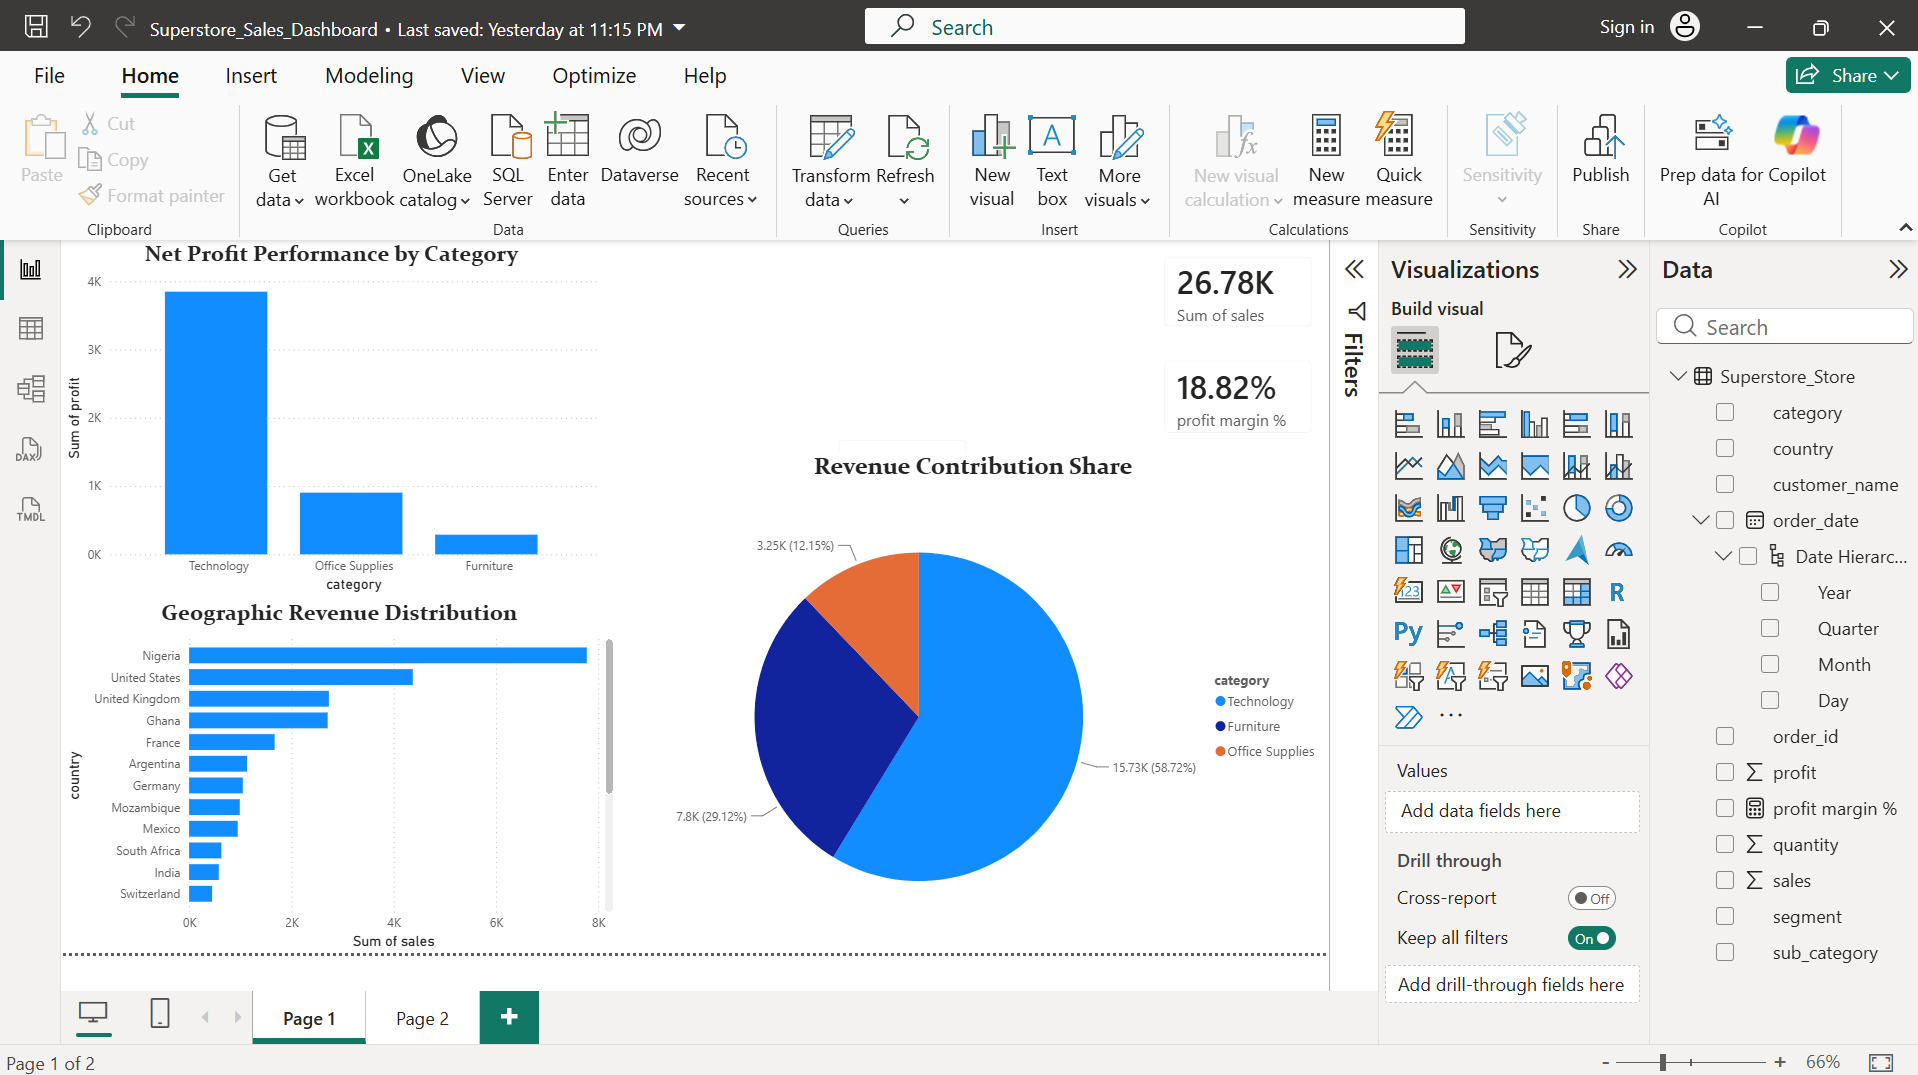

This screenshot's page, from the dashboard's own definition file:
{"tool":"powerbi","page":{"name":"Page 1","canvas":[1280,720],"ordinal":0},"visuals":[{"type":"cardVisual","fields":{"Data":["Sum(Superstore_Store.sales)"]},"box":[768.3,185,163.3,175],"z":0},{"type":"cardVisual","fields":{"Data":["Sum(Superstore_Store.sales)"]},"box":[1096.3,0,183.2,104.5],"z":1000},{"type":"pieChart","title":"Revenue Contribution Share","fields":{"Category":["Superstore_Store.category"],"Y":["Sum(Superstore_Store.sales)"]},"box":[561.8,213.5,717.7,505.7],"z":2000},{"type":"columnChart","title":"Net Profit Performance by Category","fields":{"Category":["Superstore_Store.category"],"Y":["Sum(Superstore_Store.profit)"]},"box":[0,0,546,360],"z":3001},{"type":"barChart","title":"Geographic Revenue Distribution","fields":{"Category":["Superstore_Store.country"],"Y":["Sum(Superstore_Store.sales)"]},"box":[0,362,562,358],"z":3002},{"type":"cardVisual","fields":{"Data":["Superstore_Store.profit margin %"]},"box":[1096.3,104.5,183.2,107.5],"z":3003}]}

Visuals, with their boxes on the page's 1280x720 design canvas (x1, y1, x2, y2). These are canvas units, not pixel positions in the 1918x1075 screenshot, which may show the page scaled, cropped or inside an application window:
cardVisual - Sum(Superstore_Store.sales): locate(768, 185, 932, 360)
cardVisual - Sum(Superstore_Store.sales): locate(1096, 0, 1280, 104)
"Revenue Contribution Share" pieChart: locate(562, 214, 1280, 719)
"Net Profit Performance by Category" columnChart: locate(0, 0, 546, 360)
"Geographic Revenue Distribution" barChart: locate(0, 362, 562, 720)
cardVisual - Superstore_Store.profit margin %: locate(1096, 104, 1280, 212)
